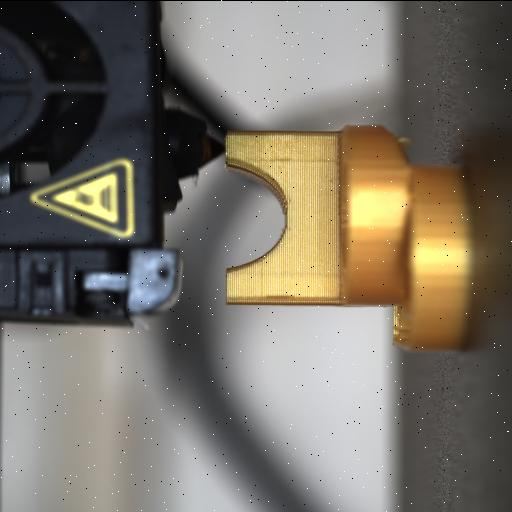layer_shift: (382, 128, 424, 354)
